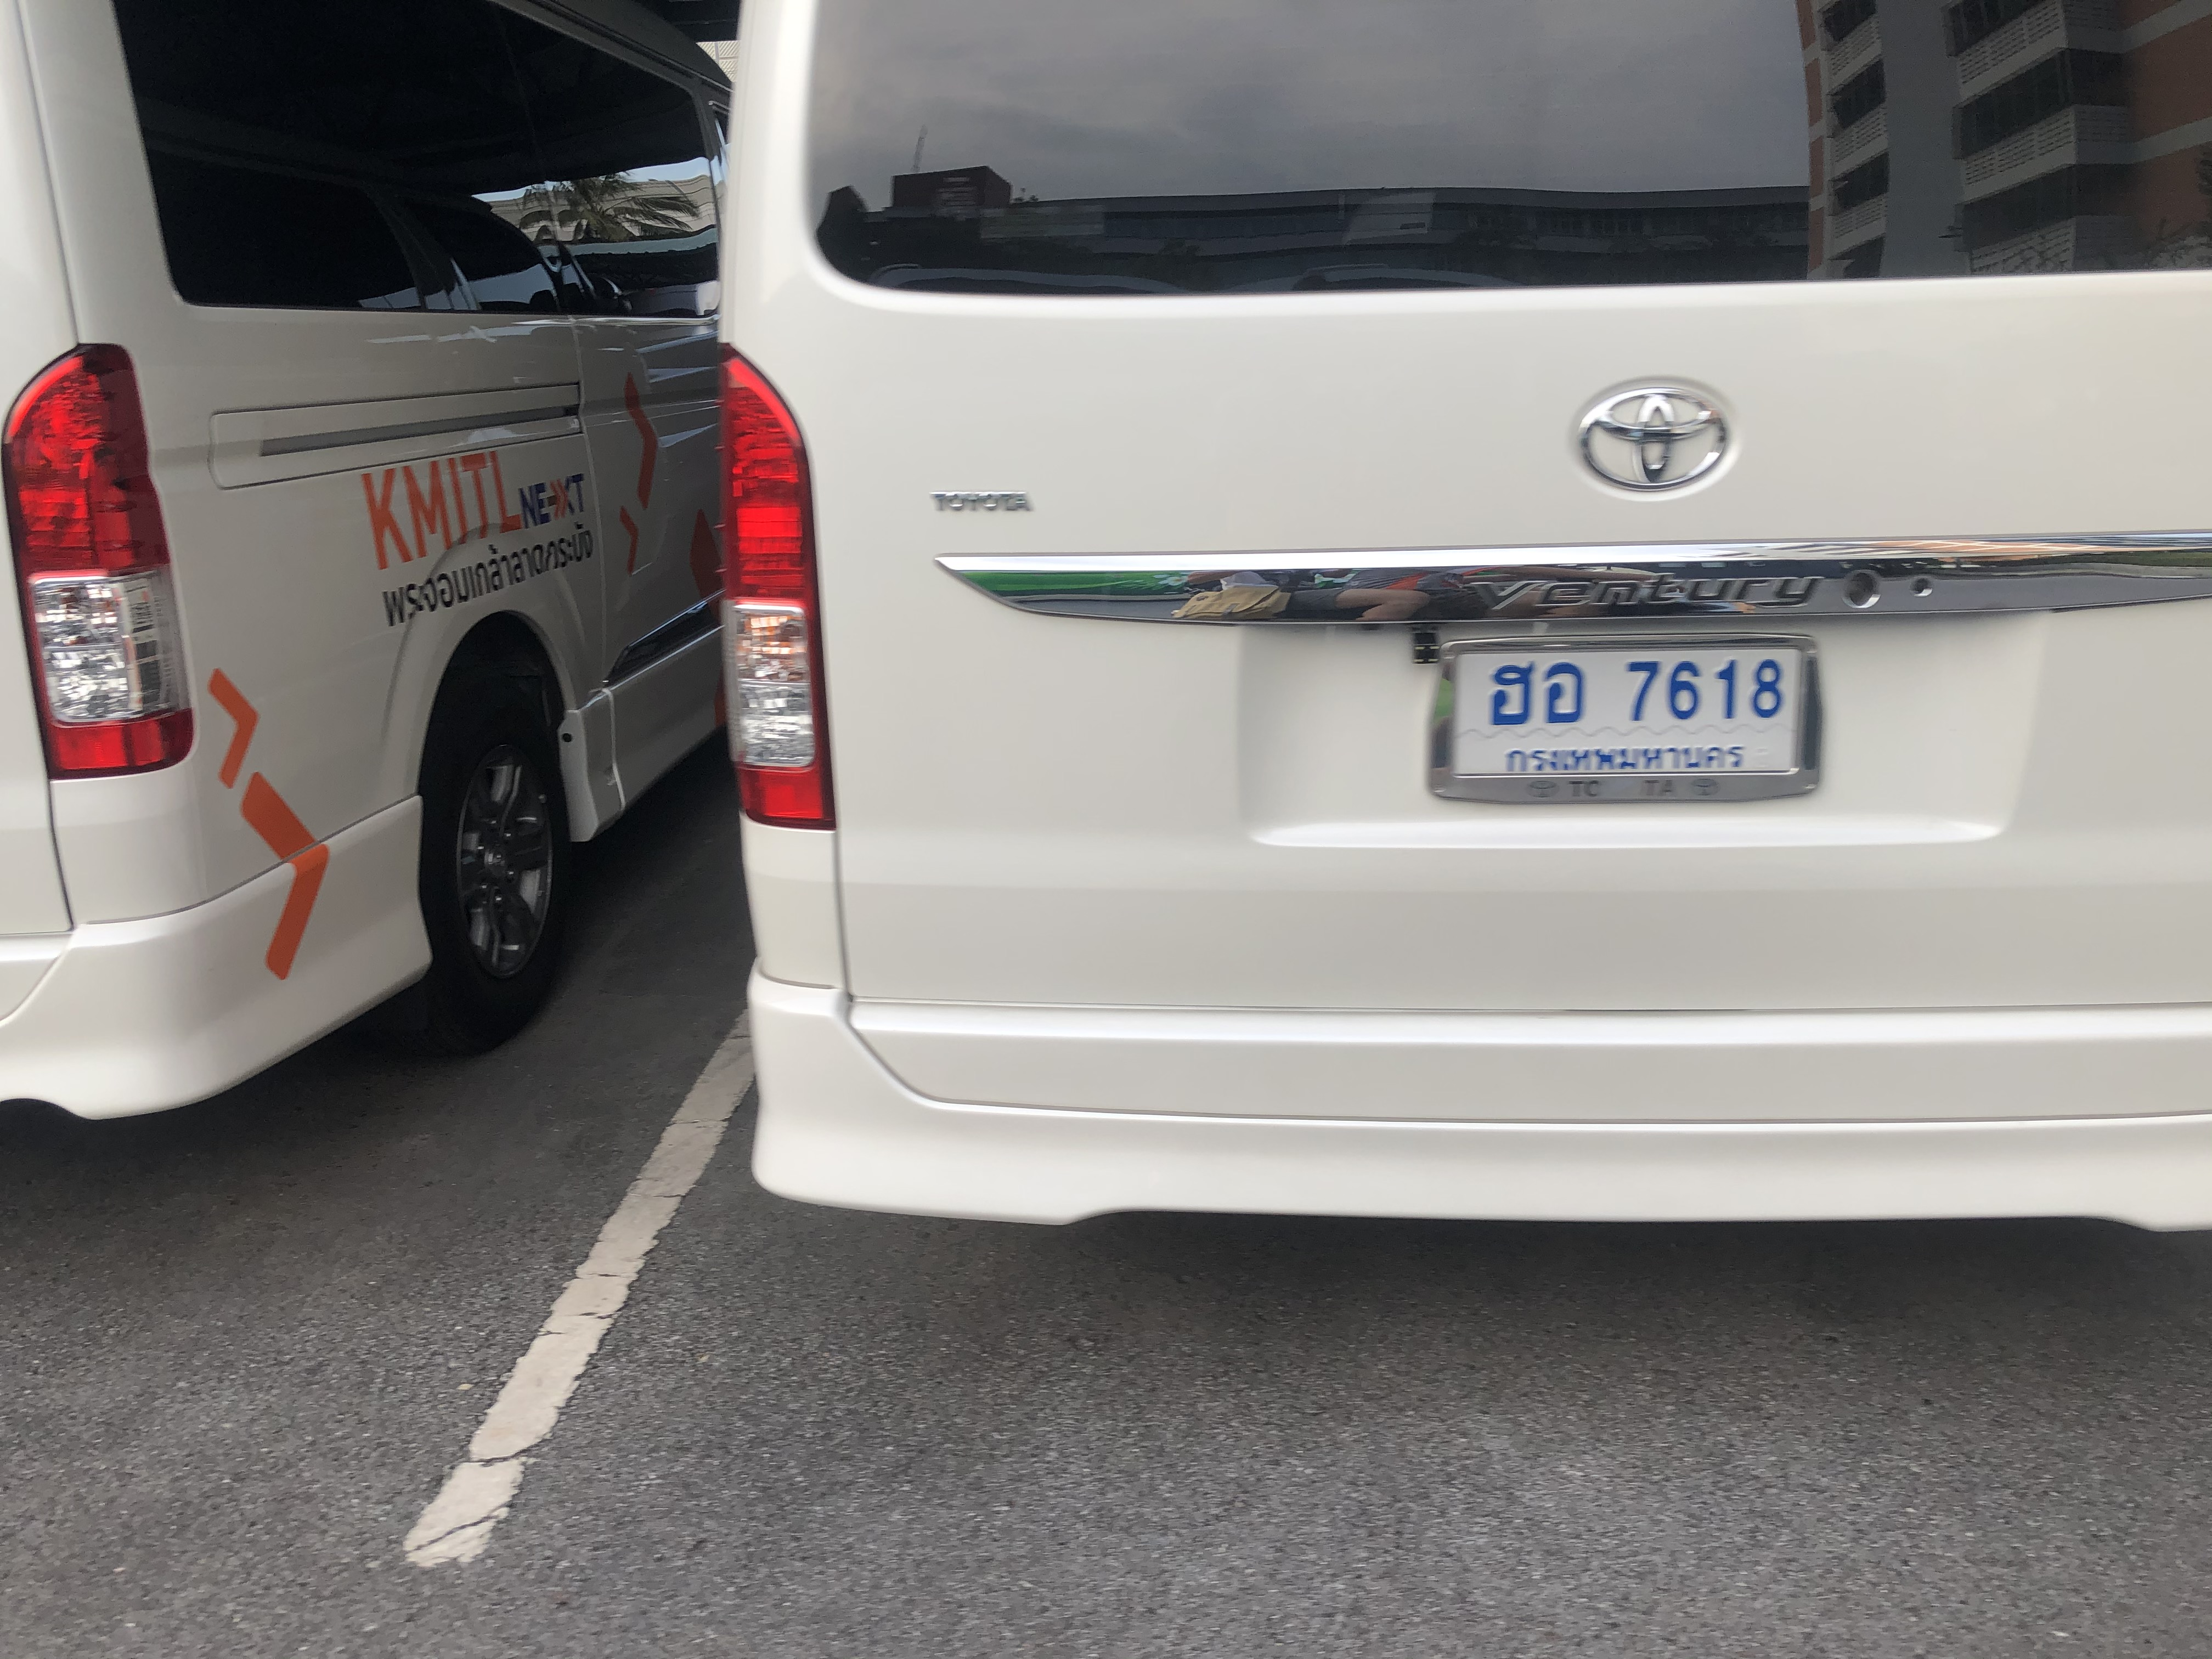in: (1456, 647, 1797, 774)
out: (1423, 636, 1824, 814)
